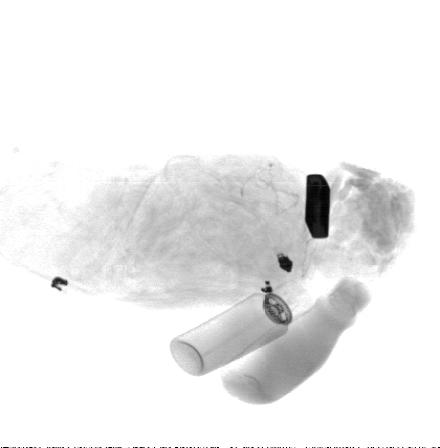Lighter: (304, 174, 332, 238)
Sprayer: (170, 278, 317, 377)
